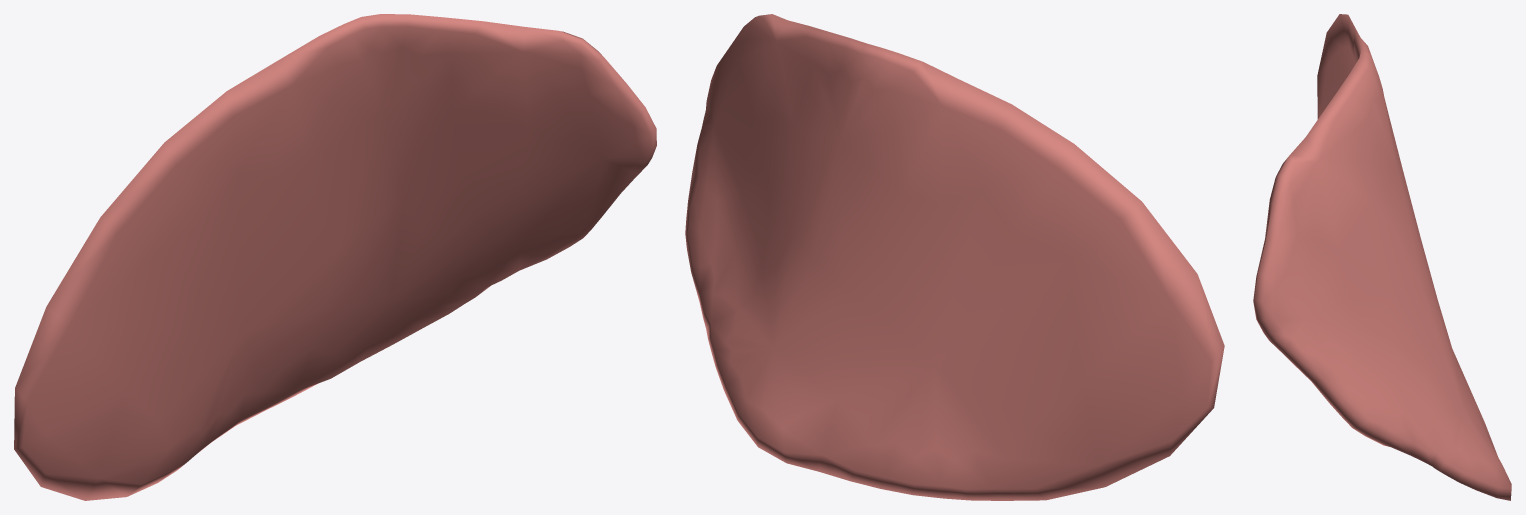
3 renders of one model, left to right at view 1: azimuth 30°, elevation 25°; view 2: azimuth 150°, elevation 25°; view 3: azimuth 270°, elevation 25°, orthographic. The views are drawn at different scales.
Parts seen in each view (by area): view 1: ZA_0f10256d6a4423fd; view 2: ZA_0f10256d6a4423fd; view 3: ZA_0f10256d6a4423fd.
Part boxes in pixels (x1,y1,x2,y2): ZA_0f10256d6a4423fd: (14,14,656,500); ZA_0f10256d6a4423fd: (685,14,1224,500); ZA_0f10256d6a4423fd: (1253,14,1511,500).
Size of the model in its own units: 0.0167 by 0.0117 by 0.00605.
